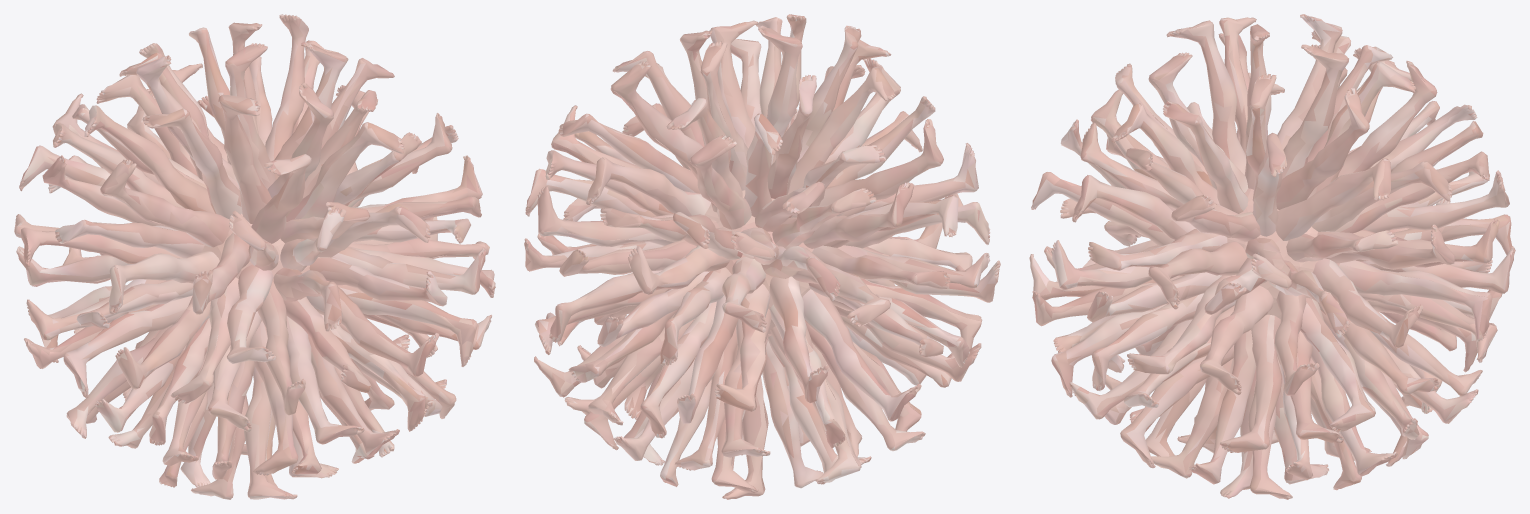
File: legs.glb
3 views of the same model, side by side, from view 1: azimuth 30°, elevation 25°; view 2: azimuth 150°, elevation 25°; view 3: azimuth 270°, elevation 25° (orthographic).
Visible parts, largest first — view 1: Mesh; view 2: Mesh; view 3: Mesh.
Boxes of the visible parts, <box> form: Mesh: <box>14,14,495,499</box>; Mesh: <box>524,14,1000,499</box>; Mesh: <box>1029,14,1515,499</box>.
Bounding box in the file's own units: 123 × 122 × 123.
1 material, 1 textured.
